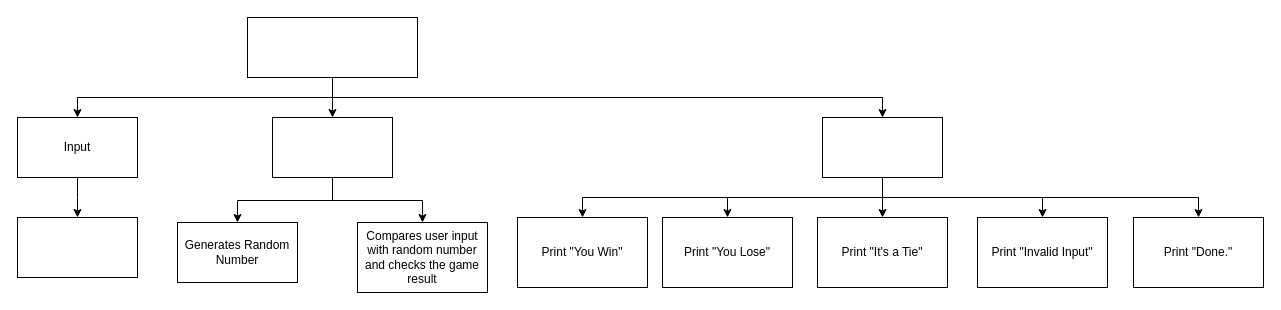
Some shapes in this 1281 by 310 pixel diagram are drawn without their labels. The centre of each missing label's shape, as x and y in pixels:
"Output" goes at point (882, 147).
"Process" goes at point (332, 147).
"Rock, Paper, Scissors Game" goes at point (332, 47).
"User inputs Rock, Paper or Scissors" goes at point (77, 247).
